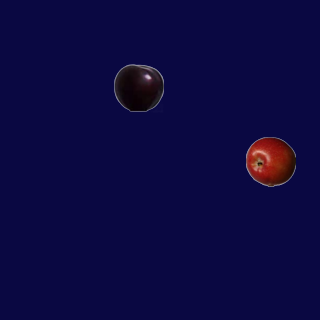Apple Braeburn: (245, 136, 295, 186)
Cherry Wax Black: (113, 62, 163, 112)
